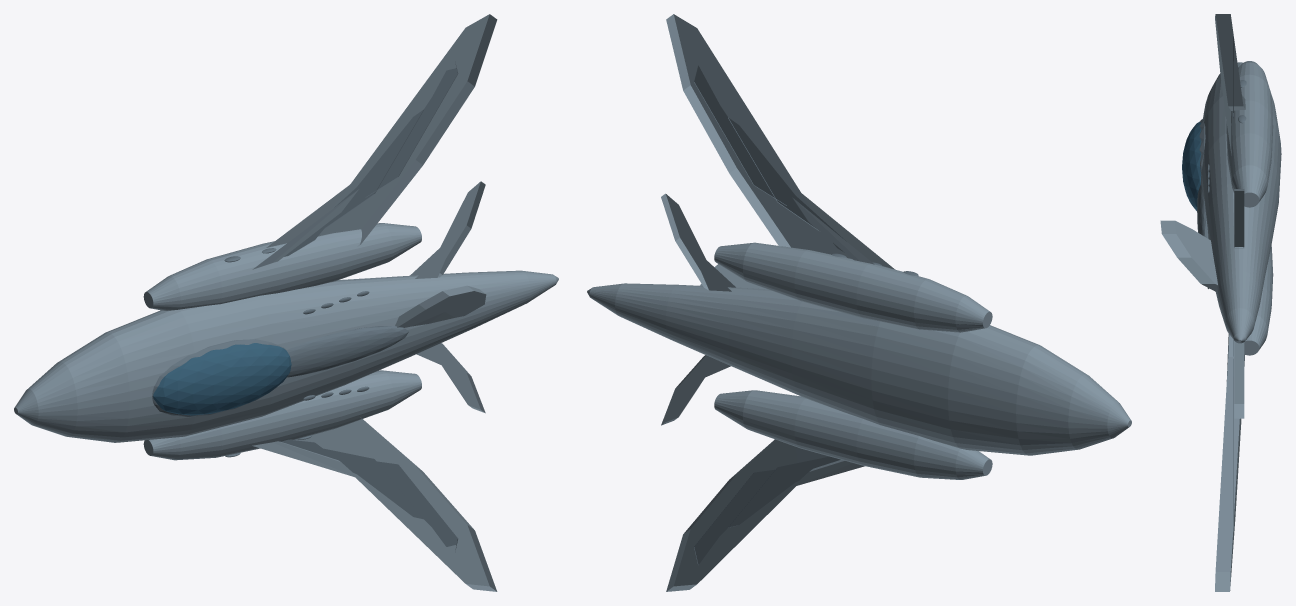
The model's file is eclipse_hiigaran_starfighter.glb.
3 renders of one model, left to right at view 1: azimuth 30°, elevation 25°; view 2: azimuth 150°, elevation 25°; view 3: azimuth 270°, elevation 25°, orthographic.
Visible parts, largest first — view 1: Eclipse_Hiigaran_Inspired_Starfighter; view 2: Eclipse_Hiigaran_Inspired_Starfighter; view 3: Eclipse_Hiigaran_Inspired_Starfighter.
Boxes of the visible parts, x1,y1,x2,y2 form: Eclipse_Hiigaran_Inspired_Starfighter: (14, 14, 558, 591); Eclipse_Hiigaran_Inspired_Starfighter: (587, 14, 1131, 591); Eclipse_Hiigaran_Inspired_Starfighter: (1160, 14, 1281, 591).
Size of the model in its own units: 9.08 by 9.16 by 1.75.
1 material, 1 textured.
